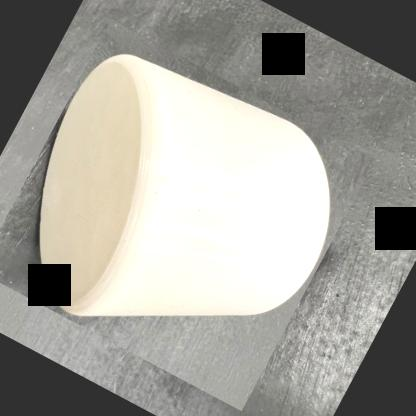white cylinder: (0, 19, 375, 411)
